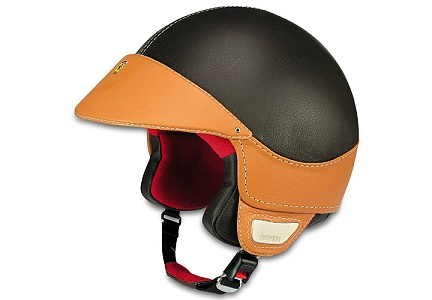helmet: (122, 7, 364, 230)
